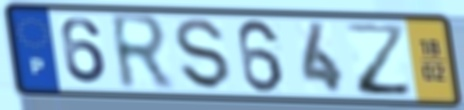4: (299, 20, 347, 96)
6: (237, 17, 286, 96), (59, 16, 110, 87)
R: (106, 11, 177, 94)
S: (173, 17, 234, 93)
Z: (342, 21, 416, 99)
